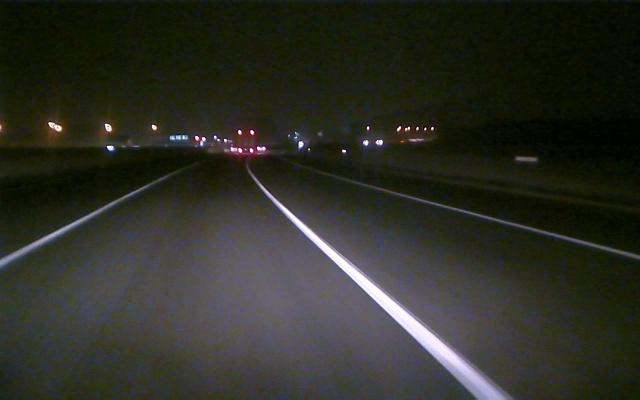lane: (256, 181, 511, 396), (353, 180, 640, 261), (2, 179, 158, 268)
